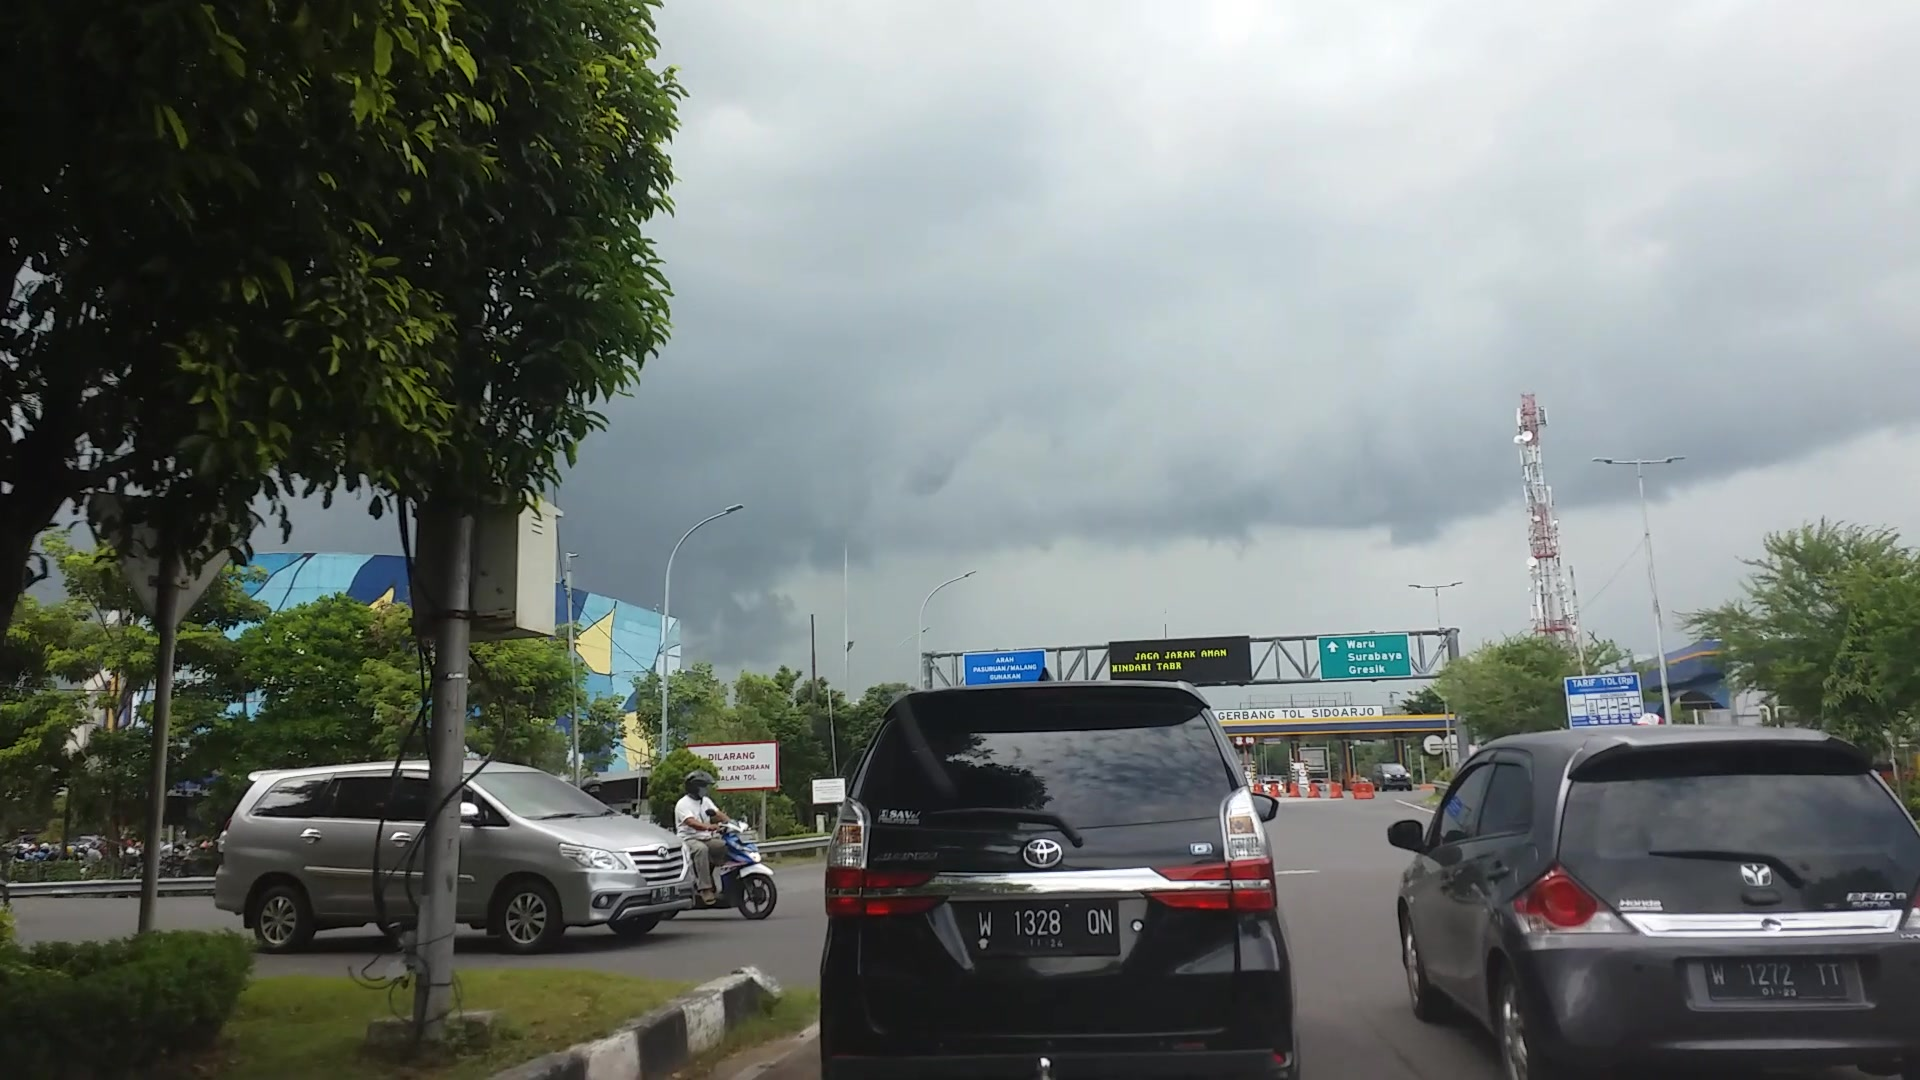plate_positive: (972, 901, 1121, 957), (1704, 957, 1845, 1001)
